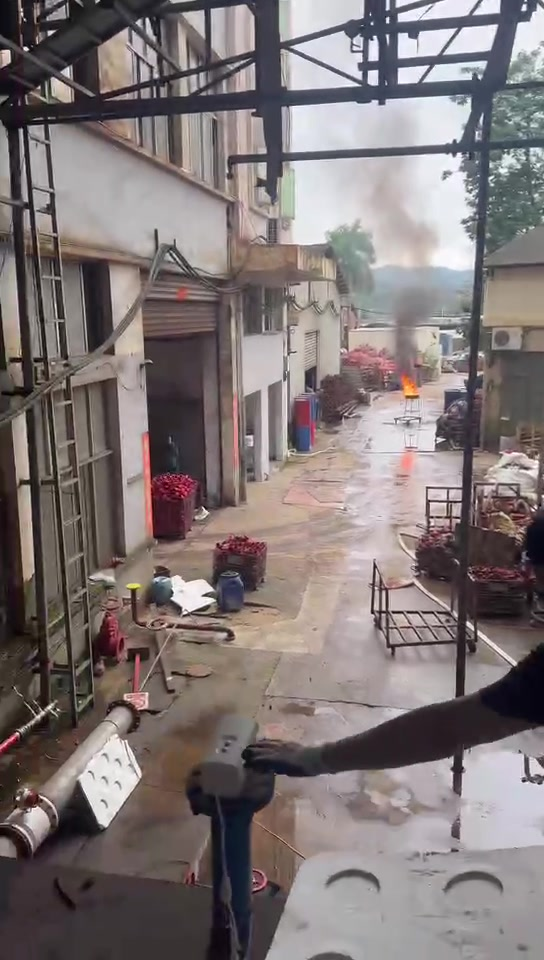fire: (400, 373, 418, 395)
